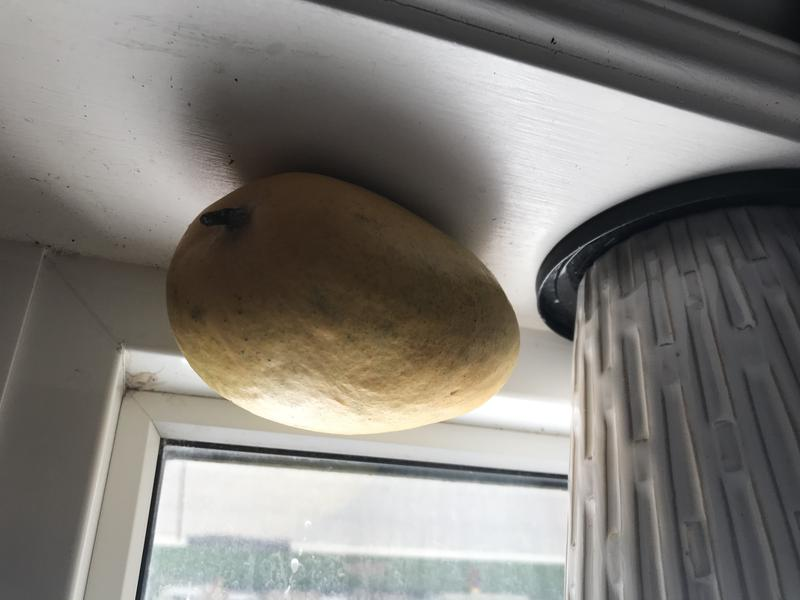w: (155, 158, 544, 460)
